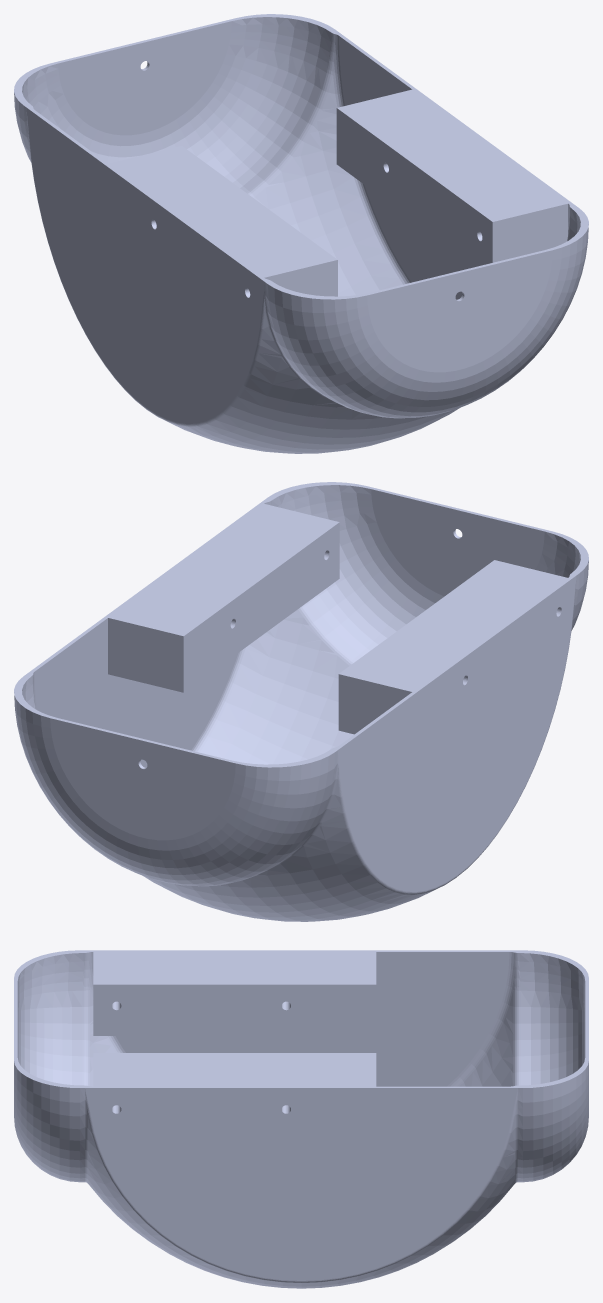
Rendered from outer_yaw.obj.
3 renders of one model, top to bottom at view 1: azimuth 30°, elevation 25°; view 2: azimuth 150°, elevation 25°; view 3: azimuth 270°, elevation 25°, orthographic. The views are drawn at different scales.
Visible parts, largest first — view 1: ActorShape0_0-Mesh; view 2: ActorShape0_0-Mesh; view 3: ActorShape0_0-Mesh.
Part boxes in pixels (x1,y1,x2,y2): ActorShape0_0-Mesh: (14, 14, 588, 453); ActorShape0_0-Mesh: (14, 482, 588, 921); ActorShape0_0-Mesh: (14, 950, 588, 1288).
Bounding box in the file's own units: 0.173 × 0.143 × 0.305.
